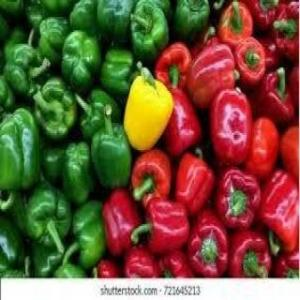bell_pepper: (1, 105, 42, 217), (90, 105, 132, 187), (26, 188, 72, 262), (126, 2, 174, 66), (61, 29, 102, 95)
